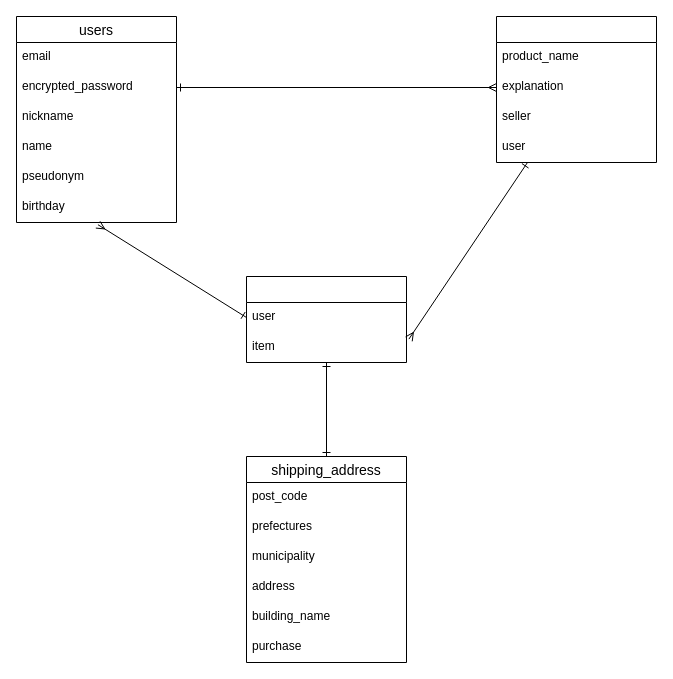
The diagram is 673 pixels wide and 679 high, and some of its shapes have lost their labels. Here are the shapes that lost their labels. From the top down, the box of each, then its label:
(496, 16, 656, 162): items
(246, 276, 406, 362): purchases
